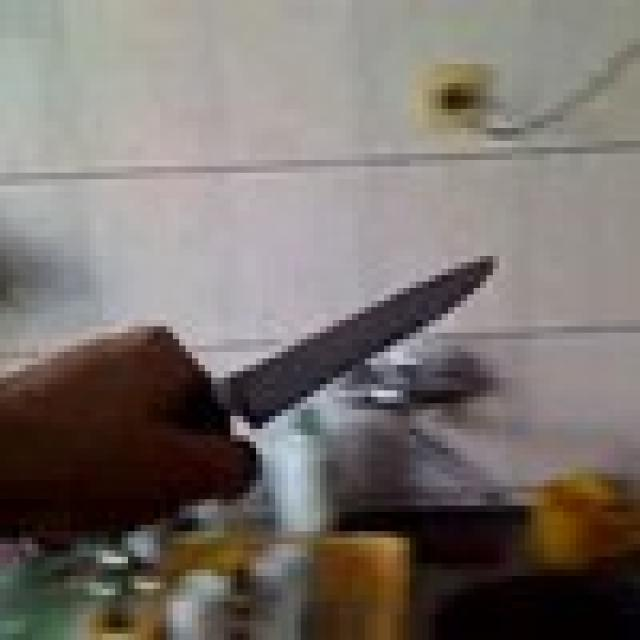weapon: (186, 243, 499, 442)
